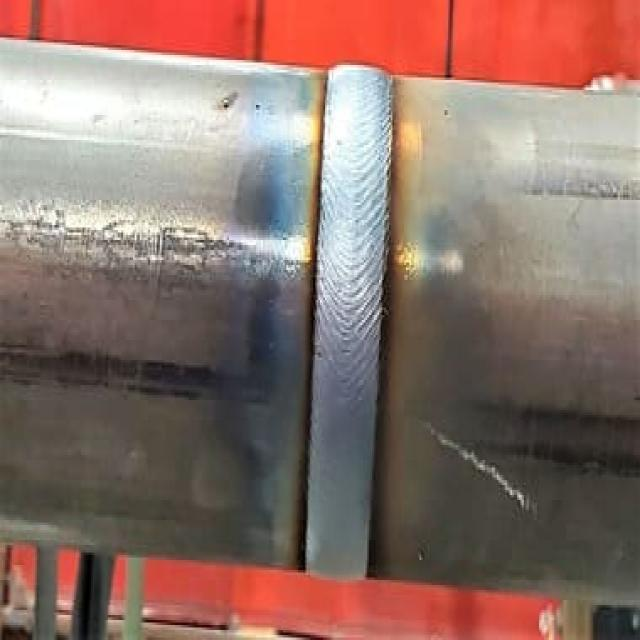Good Weld: (305, 70, 391, 572)
